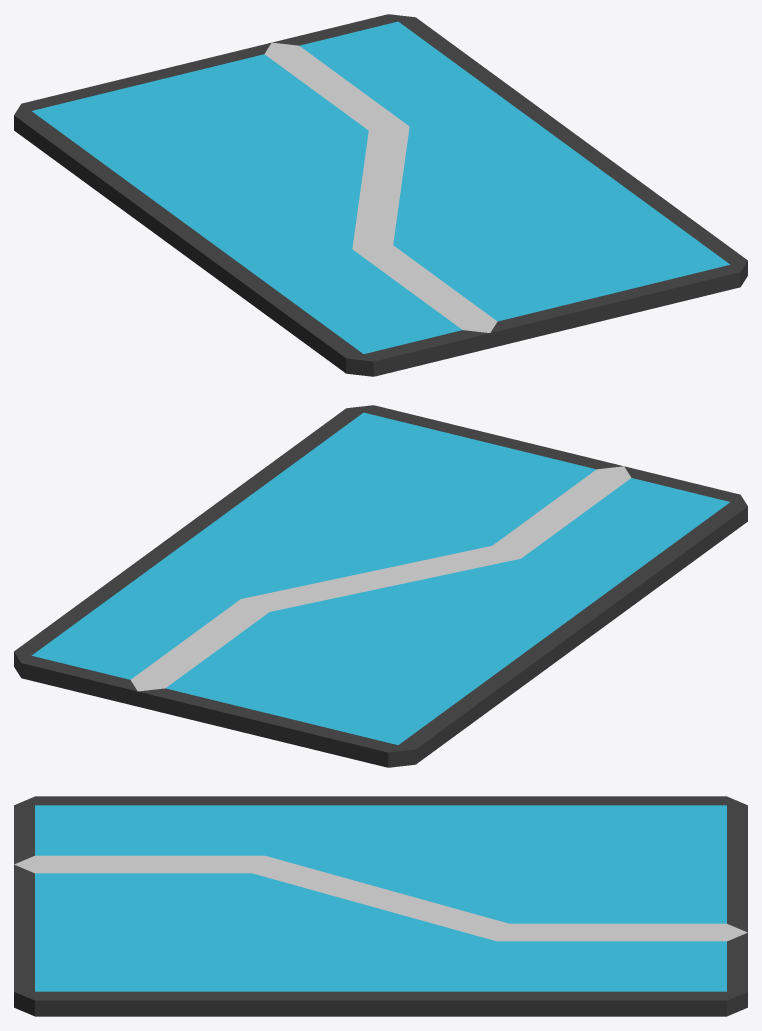
Rendered from Keycard.fbx.
3 renders of one model, top to bottom at view 1: azimuth 30°, elevation 25°; view 2: azimuth 150°, elevation 25°; view 3: azimuth 270°, elevation 25°, orthographic. The views are drawn at different scales.
Visible parts, largest first — view 1: Keycard; view 2: Keycard; view 3: Keycard.
Part boxes in pixels (left/top/right/bottom): Keycard: left=14, top=14, right=747, bottom=376; Keycard: left=14, top=405, right=747, bottom=767; Keycard: left=14, top=796, right=747, bottom=1016.
Size of the model in its own units: 4.61 by 0.1668 by 7.
1 material, 1 textured.
